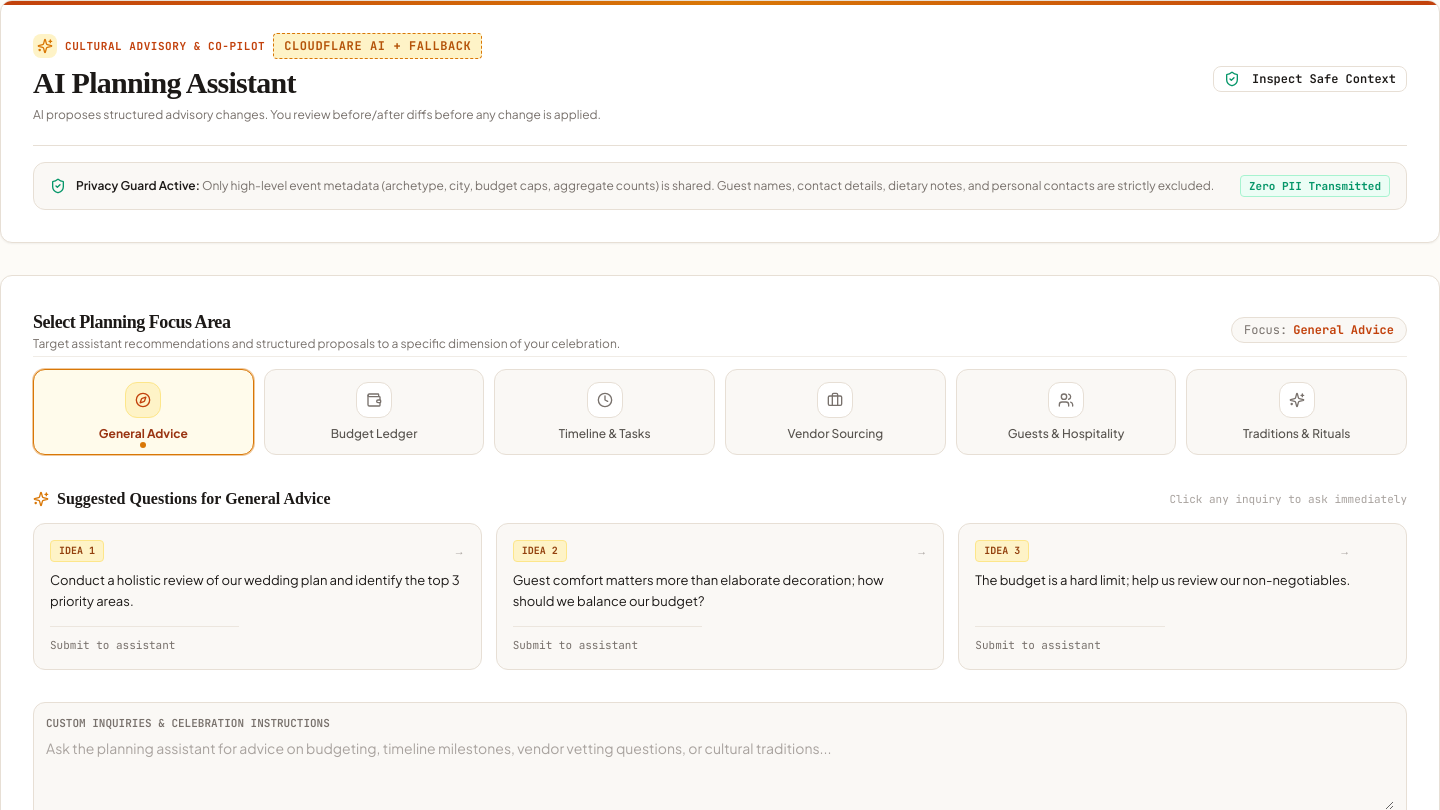
Scenario: AiAssistantTab Component › opens privacy transparency modal when clicking Inspect Safe Context and confirms zero PII
The image size is (1440, 810).
Click the button "Inspect Safe Context" at (1310,79), box x1=1213 y1=66 x2=1407 y2=92
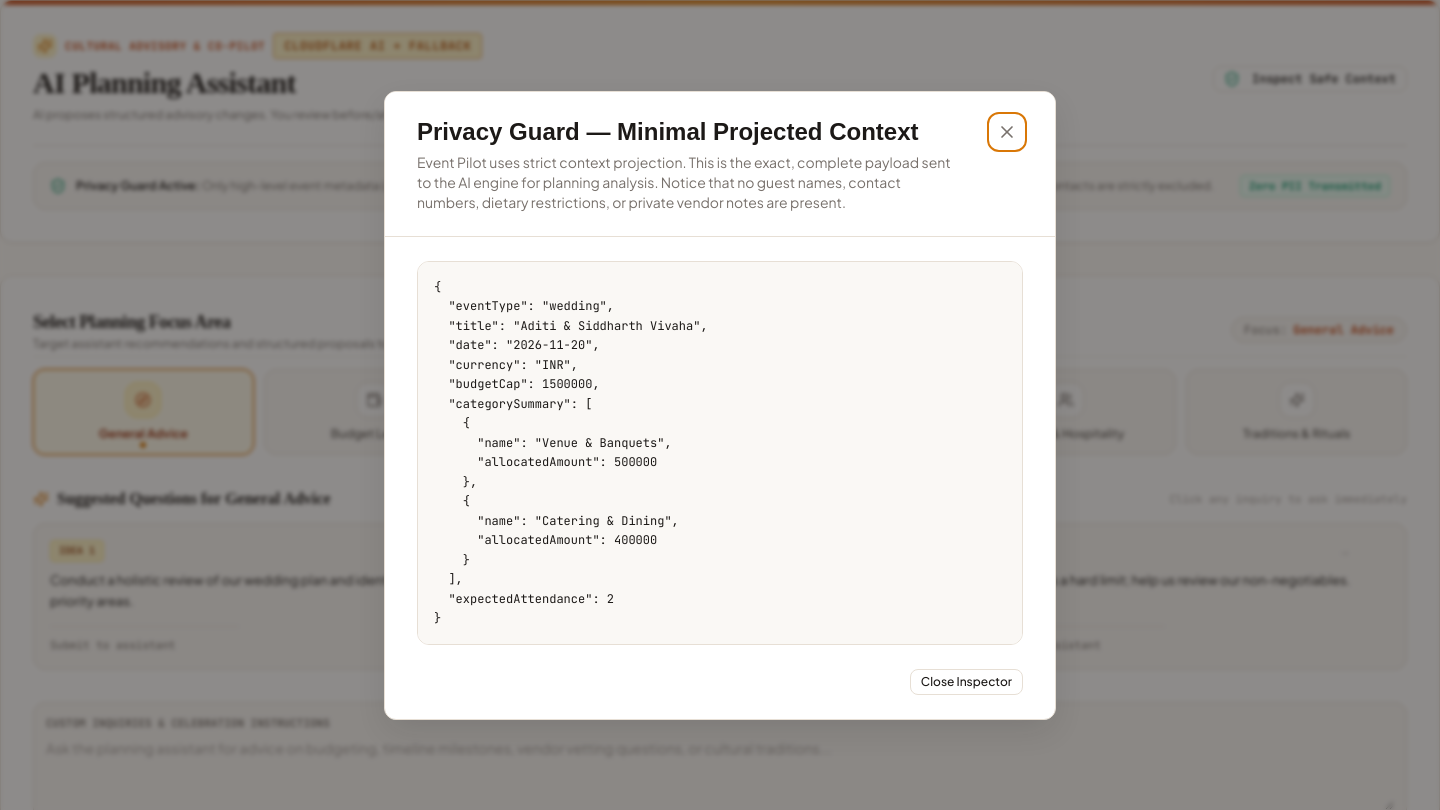
Result: the heading "Privacy Guard — Minimal Projected Context" is shown at x1=417 y1=116 x2=955 y2=148
Result: the text "Aditi & Siddharth Vivaha" is shown at x1=434 y1=278 x2=708 y2=626
